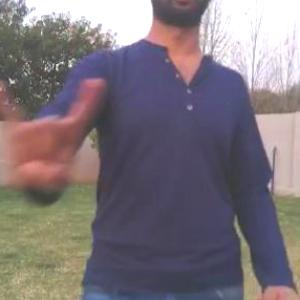takeoff-hand: (0, 65, 114, 206)
